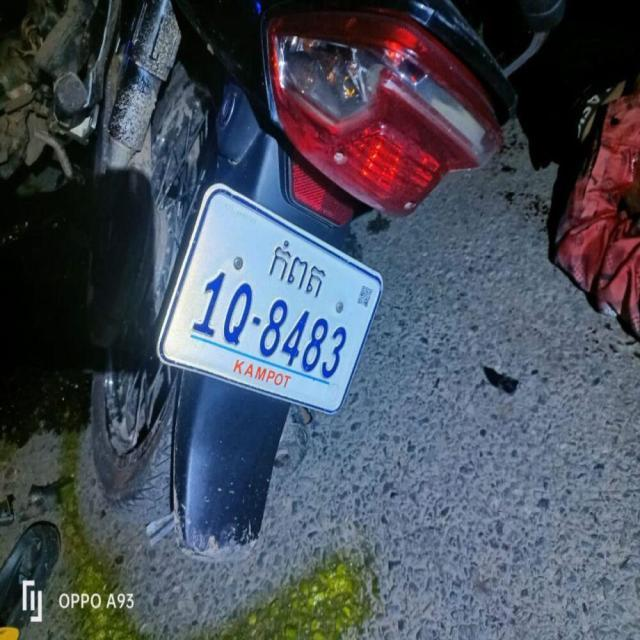Kampot: (268, 237, 326, 300)
